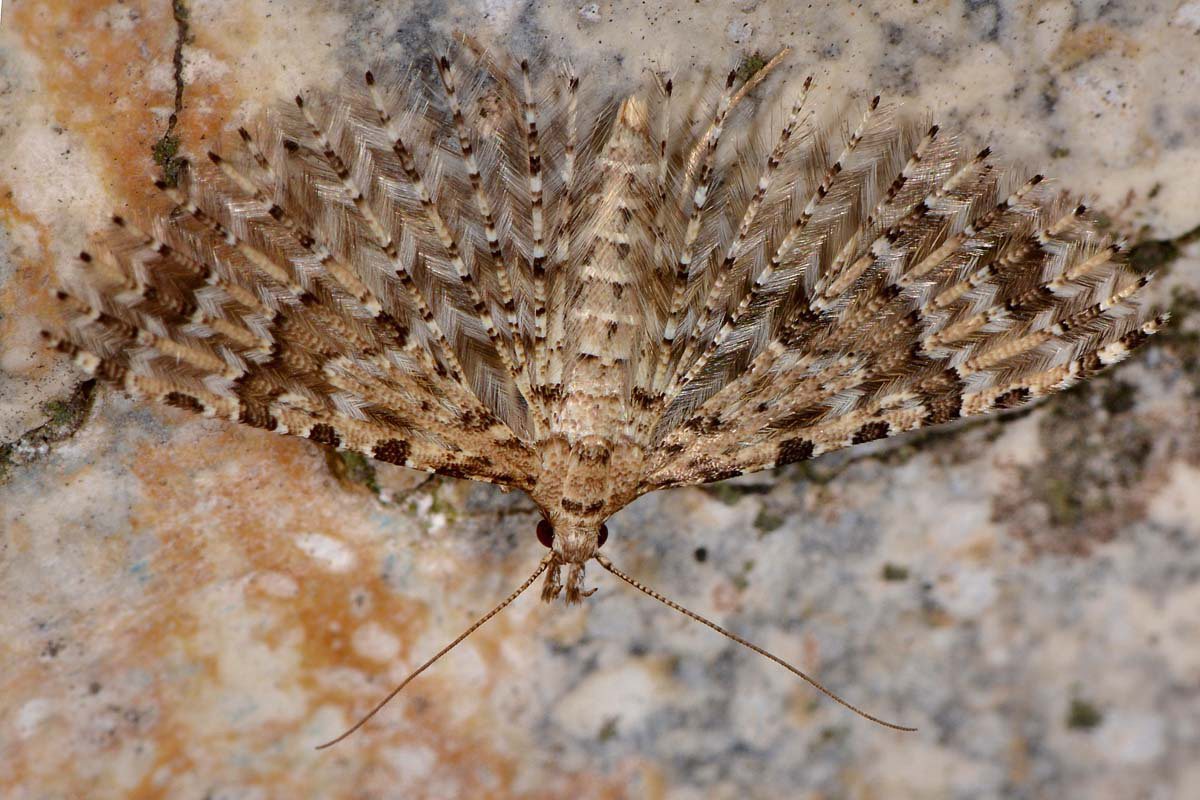Alucitidae: (32, 43, 1182, 757)
moth: (34, 45, 1184, 759)
